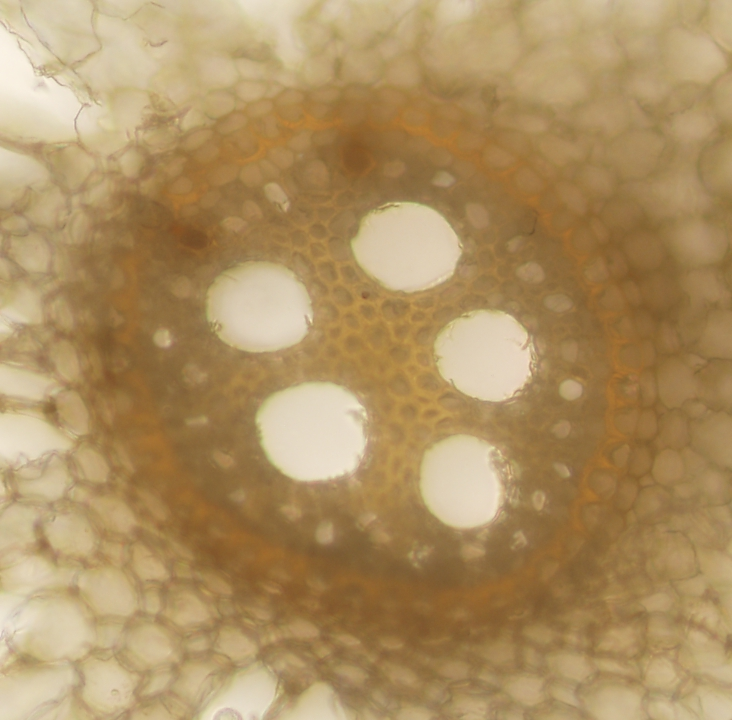lm: (253, 380, 369, 480), (350, 199, 463, 292), (204, 260, 313, 352), (433, 308, 538, 401), (418, 434, 515, 527)
